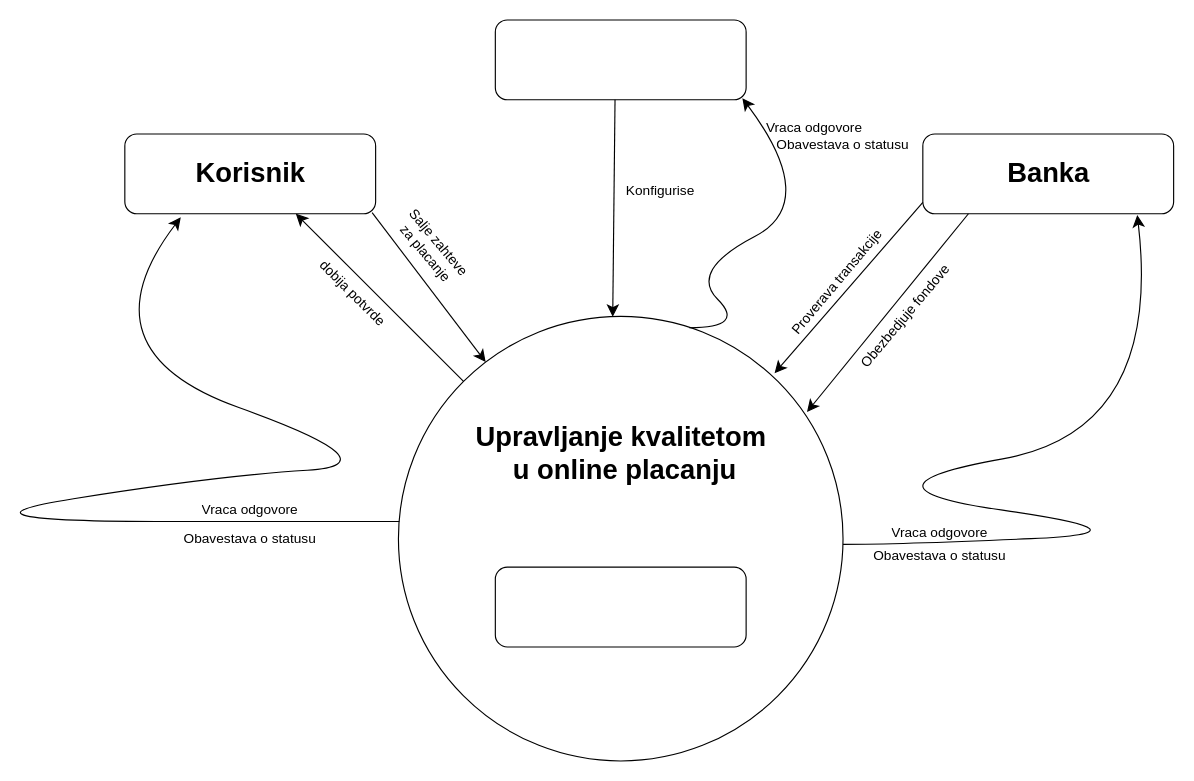
This 1194x781 diagram has some shape labels left out. Each missing label, with the centre of its shape:
"Administratori" goes at (620,59).
"QA Tim" goes at (620,606).
